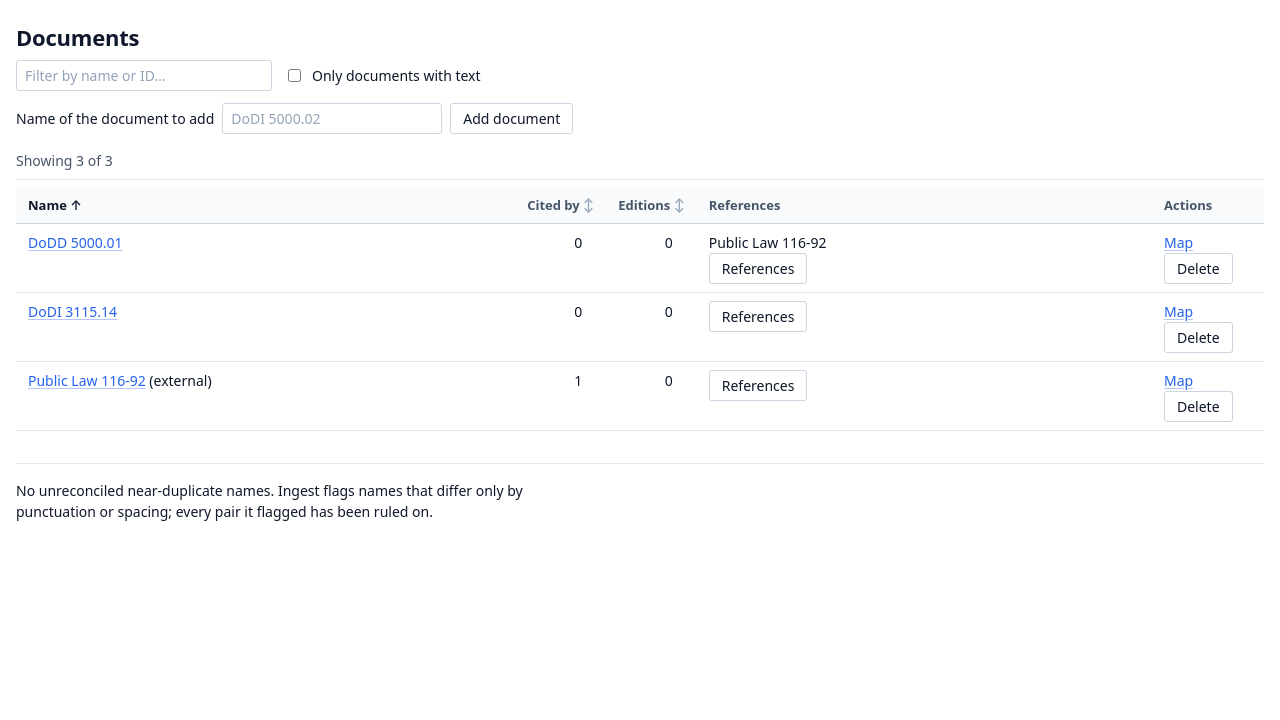
Test case: DocumentTable › says so when a filter matches nothing
Check: the link "DoDD 5000.01" is shown, box [28, 233, 123, 252]
Type "zzzz" into the search field at (144, 75), box [16, 60, 272, 90]
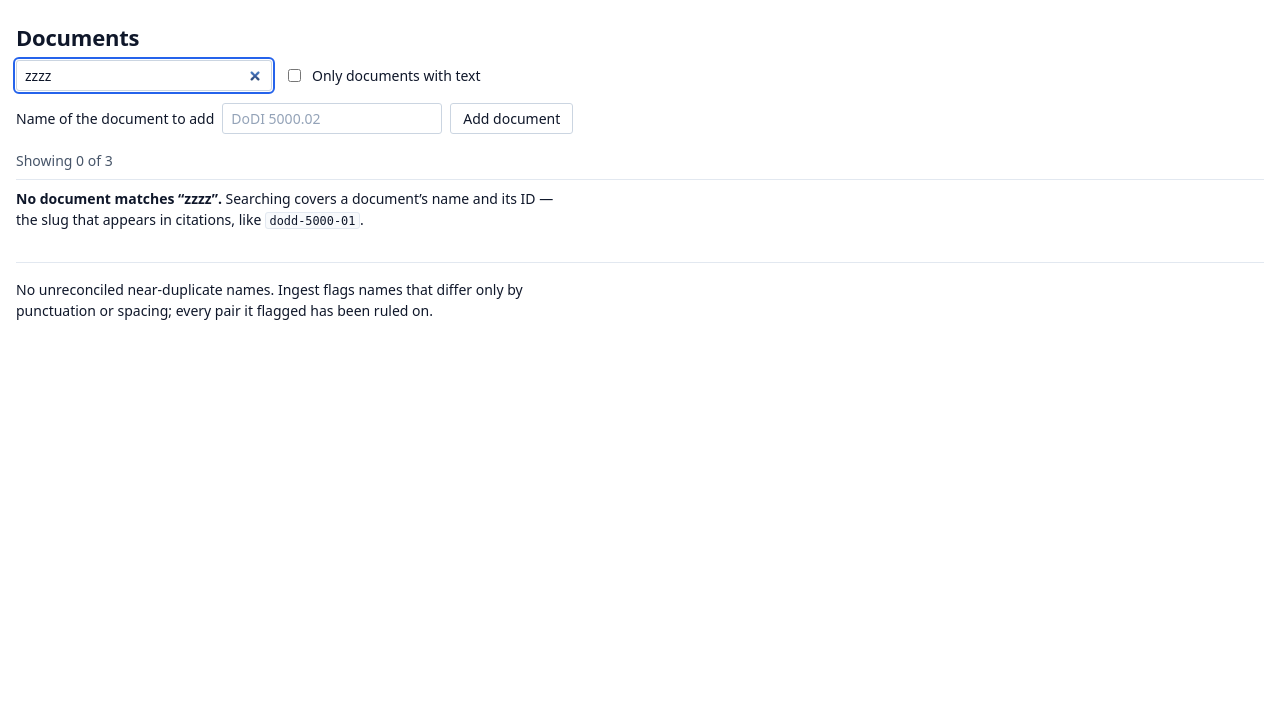
Check: the text "No document matches “zzzz”." is shown, box [16, 188, 222, 208]
